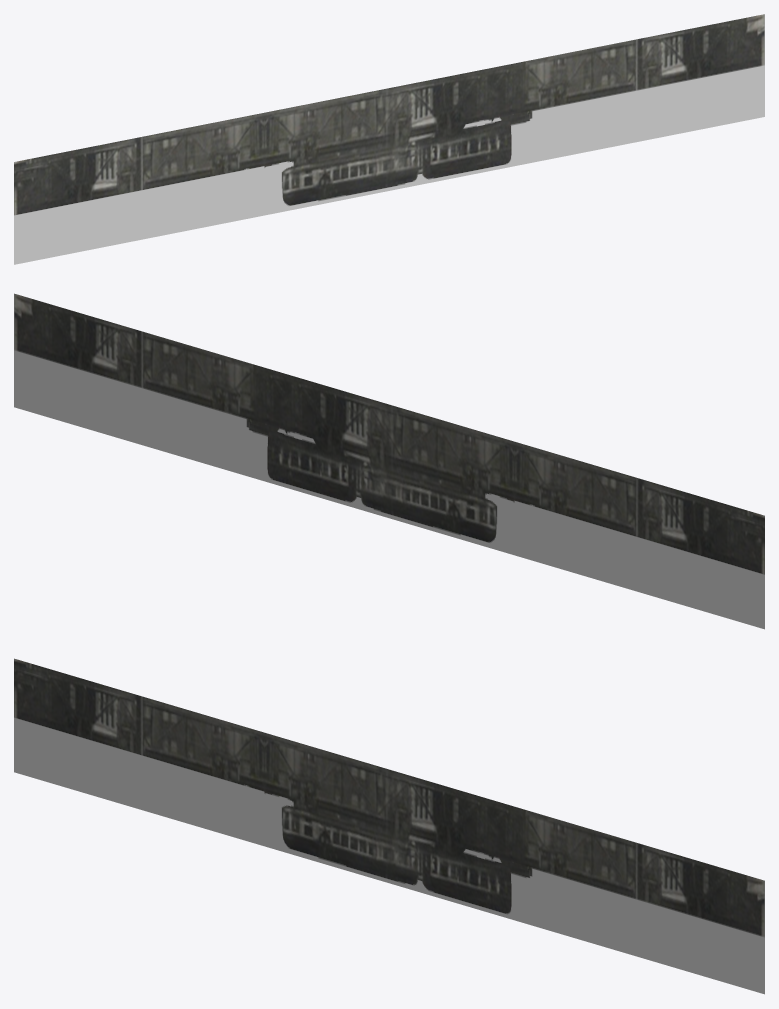
The model's file is AM_OLD_Schwebebahn_plane_A.FBX.
The picture shows the model from 3 angles, top to bottom: view 1: azimuth 30°, elevation 25°; view 2: azimuth 150°, elevation 25°; view 3: azimuth 330°, elevation 25°; orthographic projection. The views are drawn at different scales.
Parts seen in each view (by area): view 1: schwebebahn; view 2: schwebebahn; view 3: schwebebahn.
Part boxes in pixels (x1=…): schwebebahn: x1=14, y1=14, x2=764, y2=264; schwebebahn: x1=14, y1=293, x2=764, y2=629; schwebebahn: x1=14, y1=658, x2=764, y2=994.
Bounding box in the file's own units: 3988 × 548 × 349.
Materials: 1 (1 with a texture image).
